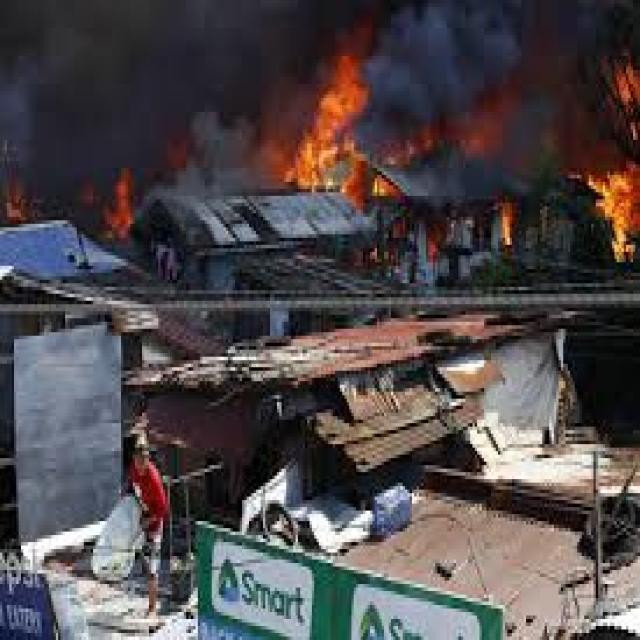Fire: (272, 56, 358, 203), (571, 167, 640, 263), (612, 52, 640, 133), (106, 168, 134, 242), (162, 138, 192, 173), (2, 184, 24, 222), (499, 201, 513, 246), (372, 173, 397, 198), (78, 176, 97, 206)
Smoke: (0, 0, 265, 196), (361, 45, 569, 205), (265, 0, 591, 45)
